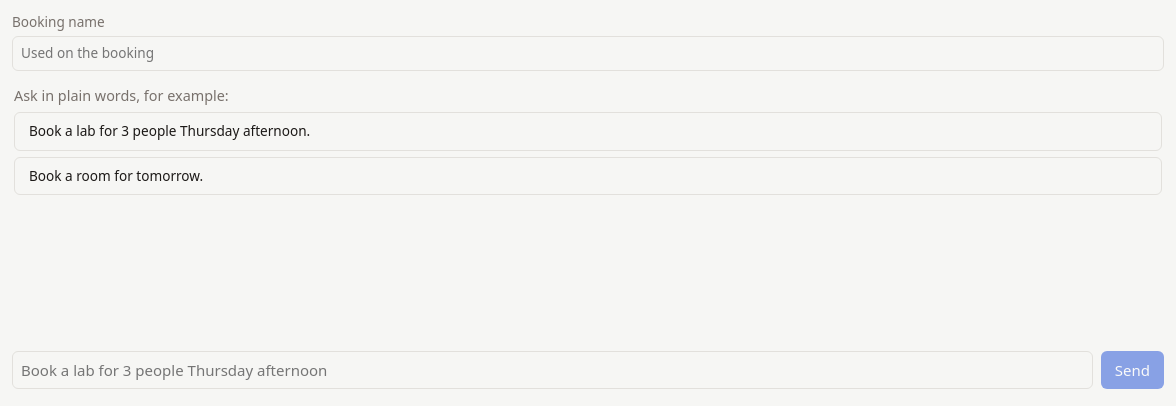
Test case: Chat › shows a clear error when the model is not configured
This screenshot has width=1176, height=406.
Type "hello" into the field named "Message".
click(552, 370); type("hello")  # box [12,351,1093,389]
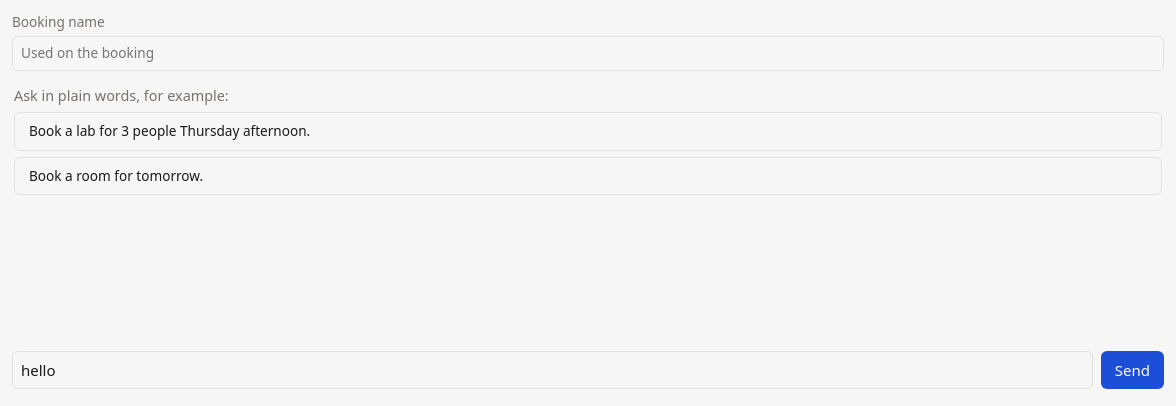
Click the button "Send".
click(1132, 370)  # box [1101,351,1164,389]
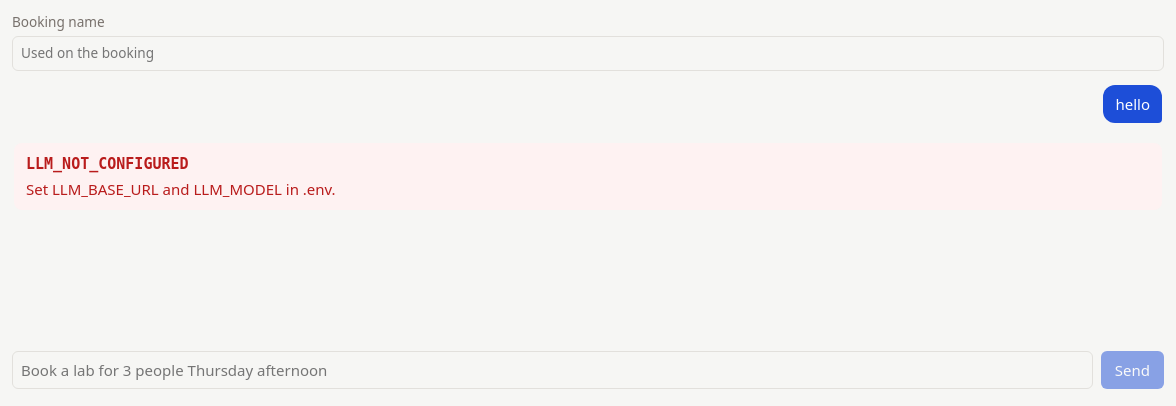
Now the message shows "LLM_NOT_CONFIGURED", box [26,155,189,173]
